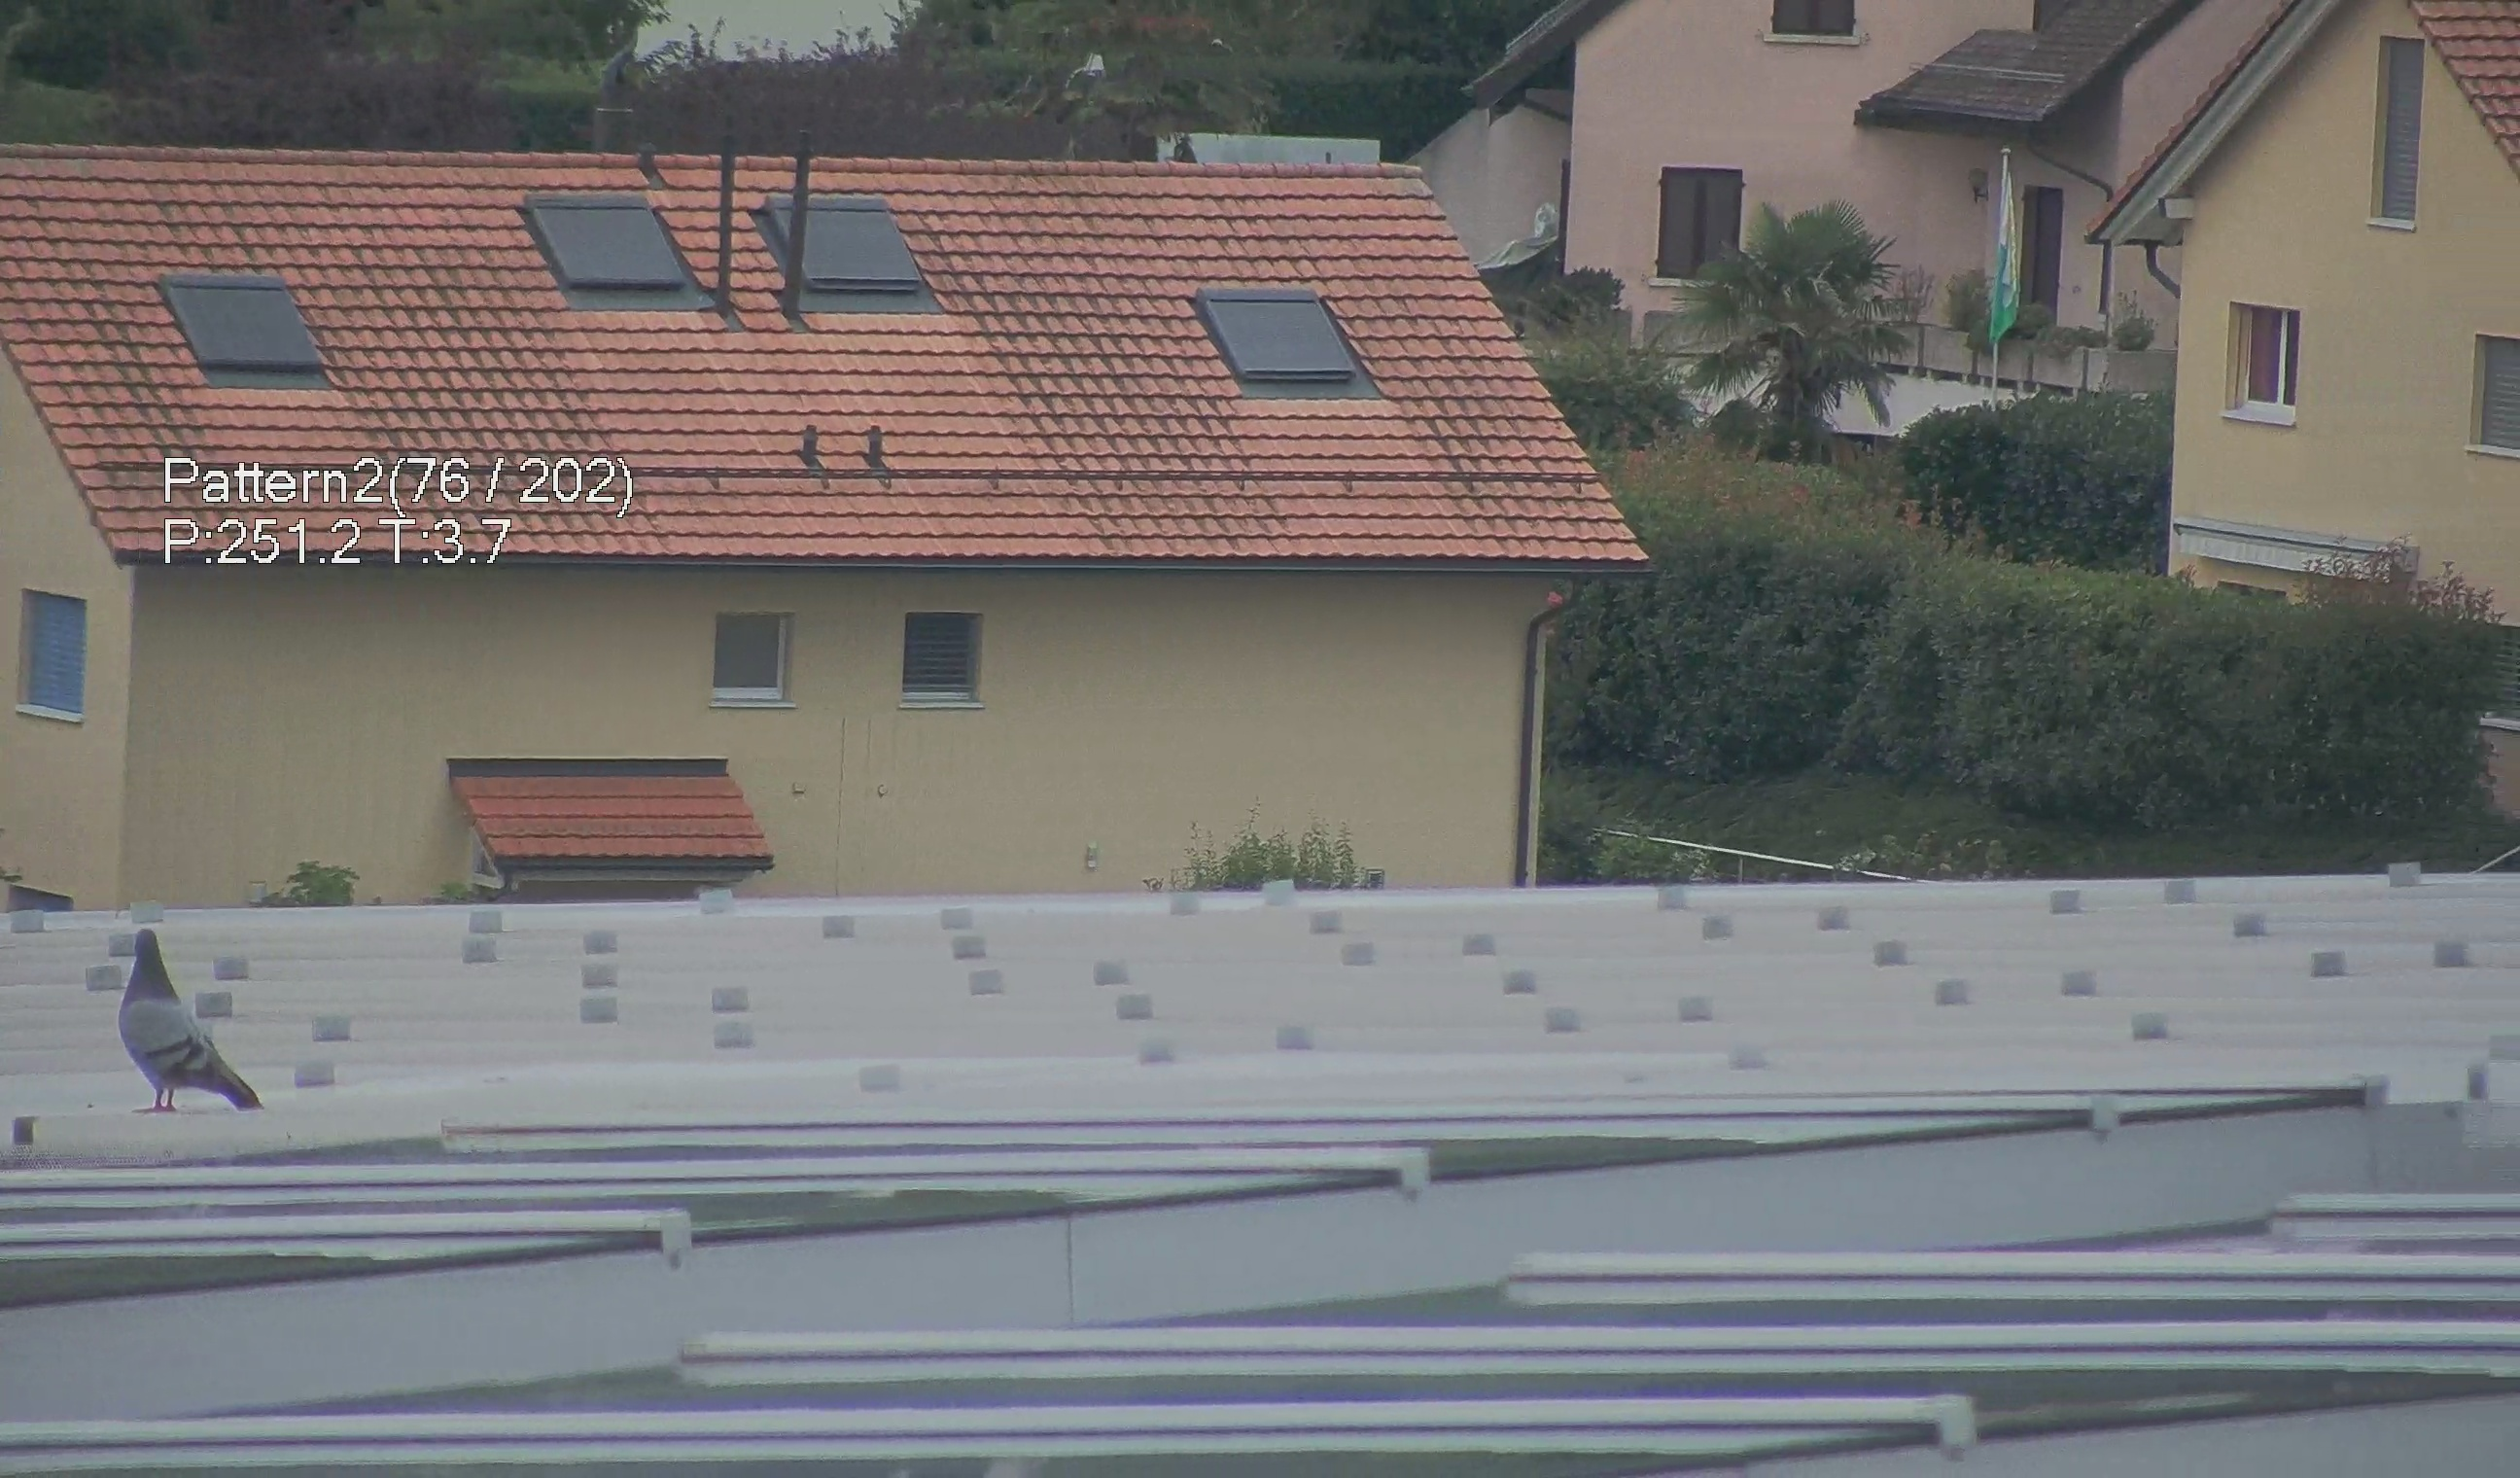Pigeon: (106, 926, 271, 1131)
